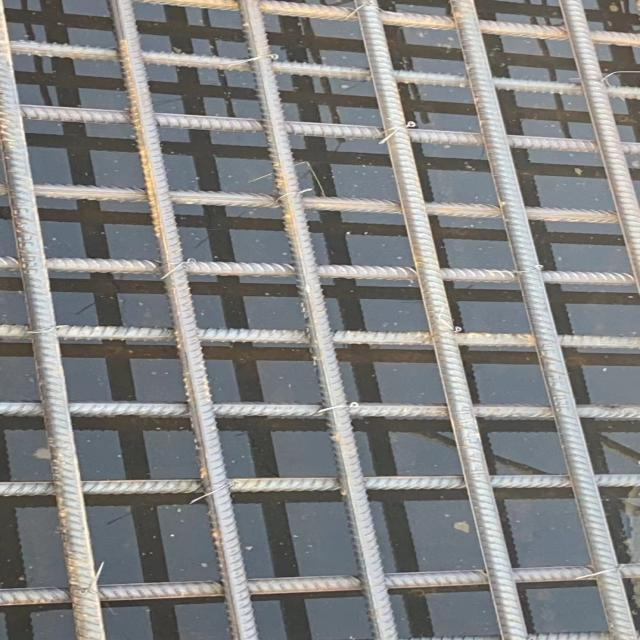ribbed bar: (448, 0, 638, 639), (353, 0, 529, 639), (242, 0, 399, 639), (110, 0, 261, 639), (0, 0, 108, 639), (8, 40, 639, 99), (23, 104, 639, 155), (0, 562, 639, 607), (0, 182, 617, 224), (115, 0, 639, 48), (559, 0, 639, 286), (0, 255, 637, 288), (0, 324, 639, 351), (0, 473, 639, 498), (0, 401, 639, 421)
